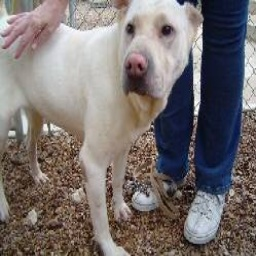dog: (8, 0, 197, 256)
